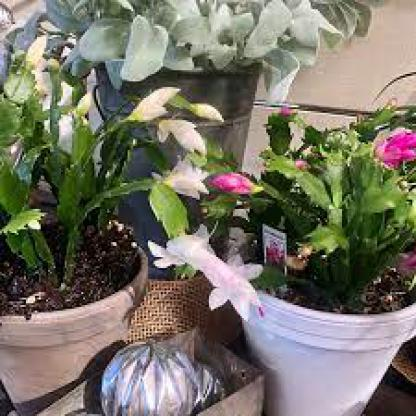Aglonema: (25, 5, 403, 262)
